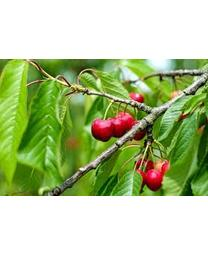cherry: (91, 117, 114, 143), (146, 168, 164, 192), (109, 117, 128, 136)
